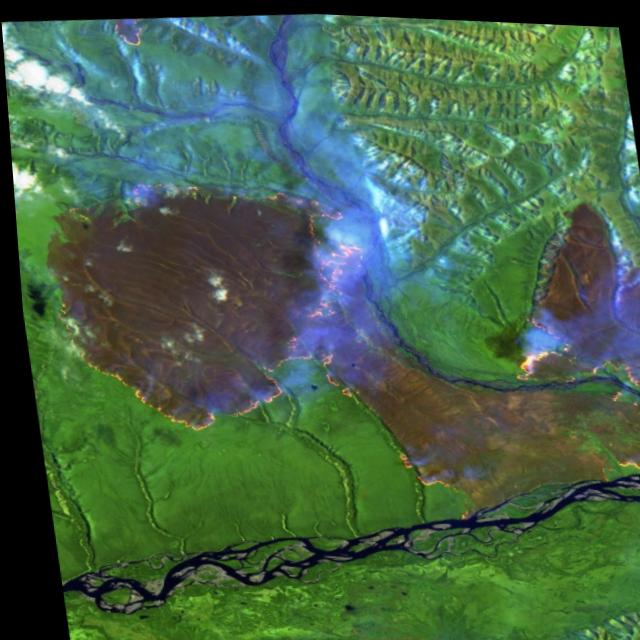fire: (24, 140, 640, 559), (99, 14, 161, 54)
